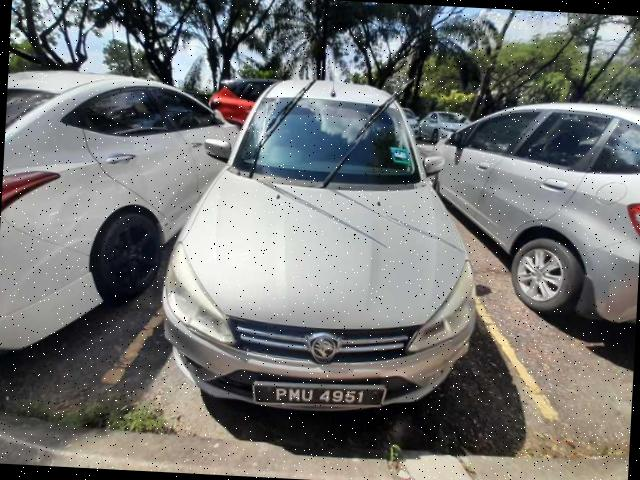License_Plate: (252, 379, 389, 414)
car: (156, 71, 489, 422)
